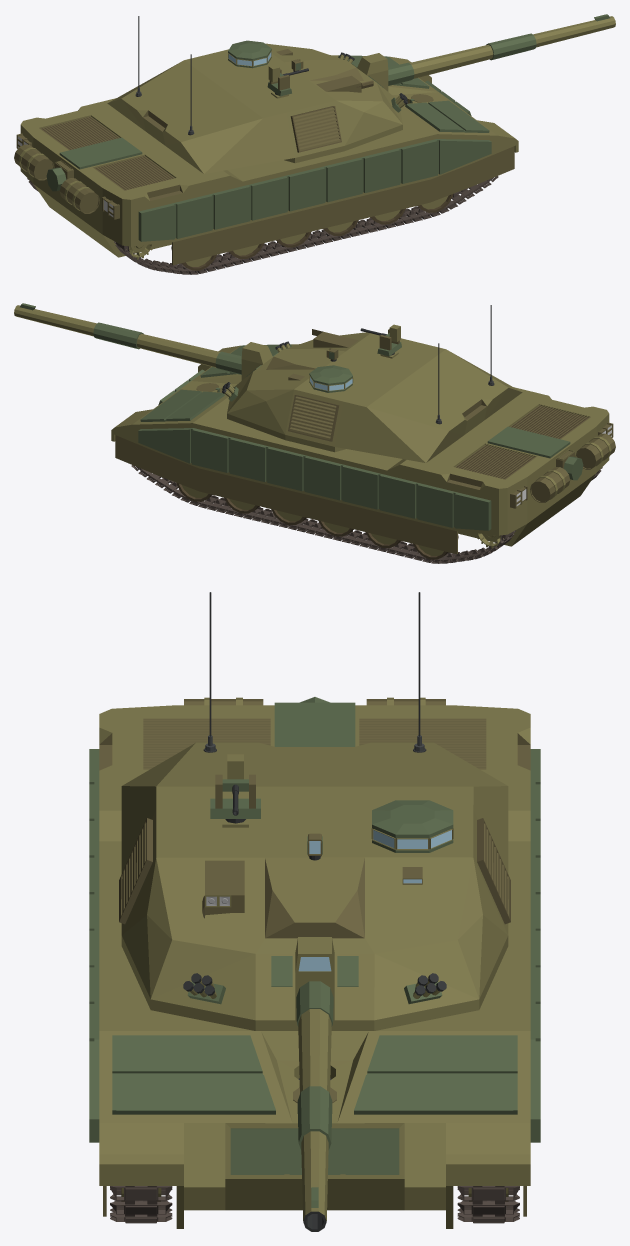
The model's file is MSI-ICRFTank 1.fbx.
The picture shows the model from 3 angles, top to bottom: view 1: azimuth 30°, elevation 25°; view 2: azimuth 150°, elevation 25°; view 3: azimuth 270°, elevation 25°; orthographic projection. The views are drawn at different scales.
Parts seen in each view (by area): view 1: Tank Chassis; view 2: Tank Chassis; view 3: Tank Chassis.
Part boxes in pixels (x1,y1,x2,y2): Tank Chassis: [14, 14, 615, 274]; Tank Chassis: [14, 303, 615, 563]; Tank Chassis: [89, 592, 540, 1231].
Size of the model in its own units: 991 by 334 by 342.
